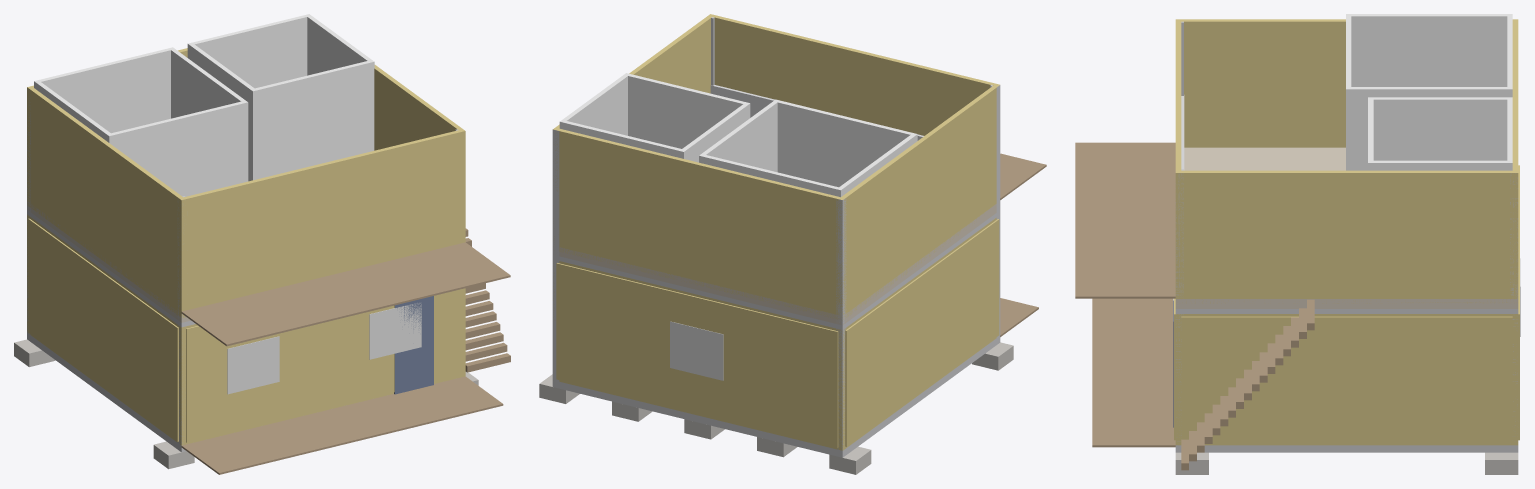
File: Duplex-20-Base-DesertYellow-LOD1.glb
3 views of the same model, side by side, from view 1: azimuth 30°, elevation 25°; view 2: azimuth 150°, elevation 25°; view 3: azimuth 270°, elevation 25° (orthographic). The views are drawn at different scales.
Visible parts, largest first — view 1: ExteriorShellUpper, ExteriorPanelsStandard, StudyUpper, BedroomUpper, BalconyUpper, BalconyGround, WindowsStandard, StaircaseExternal, EntryDoor, ExteriorShell, FoundationBlocks, BaseFrame (+3 smaller); view 2: ExteriorShellUpper, ExteriorPanelsStandard, BedroomUpper, StudyUpper, VerticalStructure, FloorUpper, FoundationBlocks, BaseFrame, ExteriorShell, WindowsStandard, TopFrame, BalconyUpper (+2 smaller); view 3: ExteriorShellUpper, ExteriorPanelsStandard, BalconyUpper, BedroomUpper, BalconyGround, StudyUpper, FloorUpper, StaircaseExternal, ExteriorShell, BaseFrame, TopFrame, FoundationBlocks (+1 smaller).
Part boxes in pixels (x1=…): ExteriorShellUpper: x1=27, y1=48, x2=465, y2=317; ExteriorPanelsStandard: x1=28, y1=218, x2=461, y2=442; StudyUpper: x1=187, y1=14, x2=374, y2=181; BedroomUpper: x1=34, y1=47, x2=248, y2=196; BalconyUpper: x1=181, y1=242, x2=510, y2=346; BalconyGround: x1=181, y1=376, x2=503, y2=474; WindowsStandard: x1=227, y1=303, x2=421, y2=394; StaircaseExternal: x1=465, y1=228, x2=510, y2=372; EntryDoor: x1=394, y1=296, x2=433, y2=394; ExteriorShell: x1=27, y1=214, x2=465, y2=445; FoundationBlocks: x1=14, y1=339, x2=478, y2=469; BaseFrame: x1=27, y1=333, x2=186, y2=452; ExteriorShellUpper: x1=553, y1=14, x2=999, y2=320; ExteriorPanelsStandard: x1=556, y1=219, x2=999, y2=447; BedroomUpper: x1=699, y1=99, x2=917, y2=197; StudyUpper: x1=559, y1=73, x2=750, y2=162; VerticalStructure: x1=552, y1=17, x2=1000, y2=449; FloorUpper: x1=553, y1=204, x2=996, y2=325; FoundationBlocks: x1=539, y1=342, x2=1013, y2=474; BaseFrame: x1=552, y1=336, x2=1000, y2=457; ExteriorShell: x1=553, y1=218, x2=996, y2=450; WindowsStandard: x1=670, y1=321, x2=723, y2=380; TopFrame: x1=559, y1=213, x2=996, y2=329; BalconyUpper: x1=1000, y1=153, x2=1046, y2=199; ExteriorShellUpper: x1=1175, y1=19, x2=1518, y2=303; ExteriorPanelsStandard: x1=1174, y1=165, x2=1519, y2=443; BalconyUpper: x1=1075, y1=142, x2=1175, y2=298; BedroomUpper: x1=1346, y1=14, x2=1512, y2=170; BalconyGround: x1=1092, y1=298, x2=1175, y2=447; StudyUpper: x1=1368, y1=97, x2=1512, y2=170; FloorUpper: x1=1175, y1=147, x2=1518, y2=308; StaircaseExternal: x1=1181, y1=299, x2=1314, y2=470; ExteriorShell: x1=1175, y1=314, x2=1518, y2=445; BaseFrame: x1=1175, y1=445, x2=1518, y2=452; TopFrame: x1=1175, y1=309, x2=1518, y2=313; FoundationBlocks: x1=1175, y1=452, x2=1518, y2=474.
Bounding box in the file's own units: 7.94 × 6 × 8.
